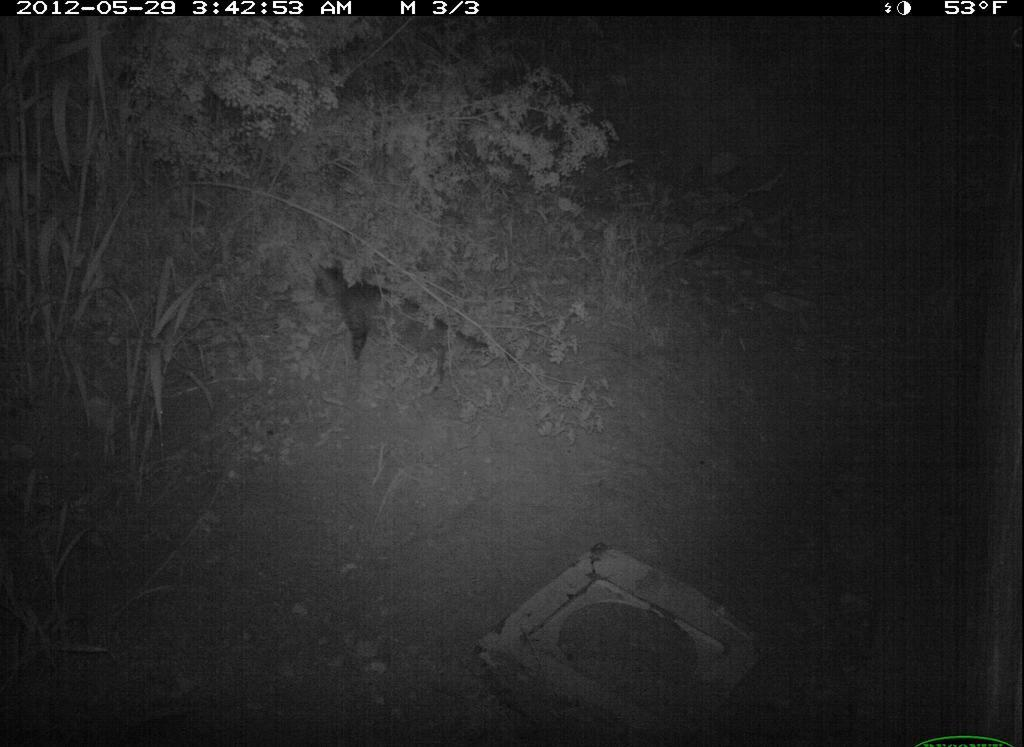cat: (306, 255, 516, 397)
